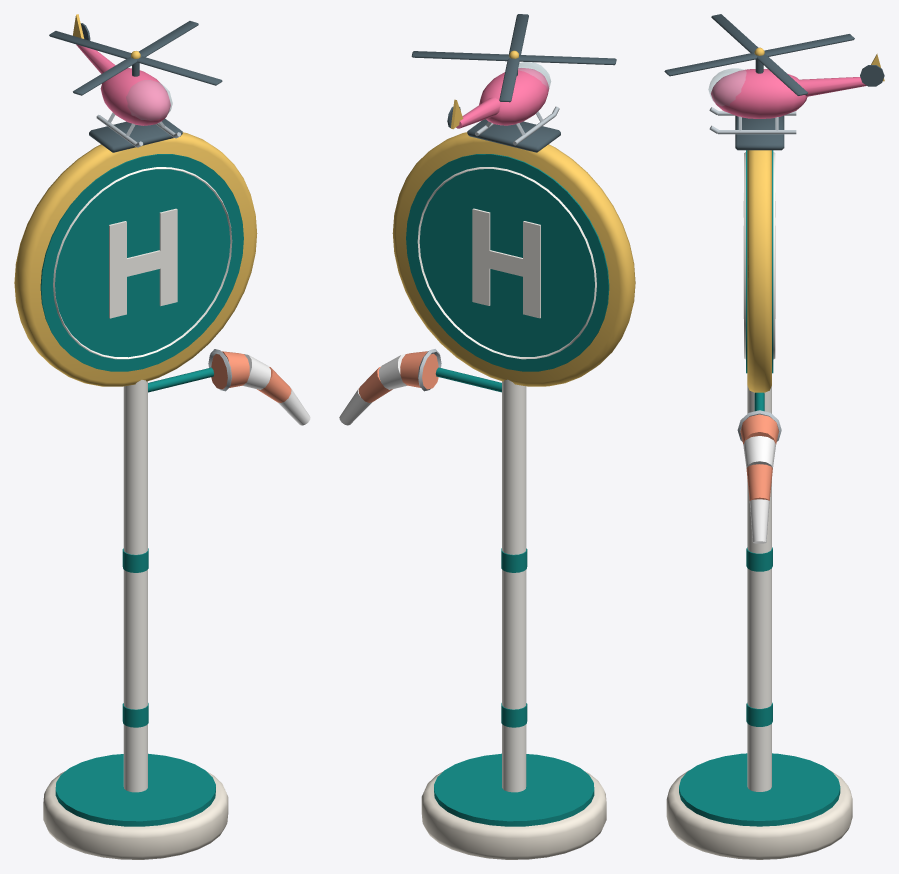
File: helipad_sign.glb
The picture shows the model from 3 angles, left to right: view 1: azimuth 30°, elevation 25°; view 2: azimuth 150°, elevation 25°; view 3: azimuth 270°, elevation 25°; orthographic projection.
Parts seen in each view (by area): view 1: HelipadSign; view 2: HelipadSign; view 3: HelipadSign.
Part boxes in pixels (x1,y1,x2,y2): HelipadSign: (14,14,310,859); HelipadSign: (339,14,635,859); HelipadSign: (664,14,884,859).
Size of the model in its own units: 1.38 by 3.5 by 0.8991.
